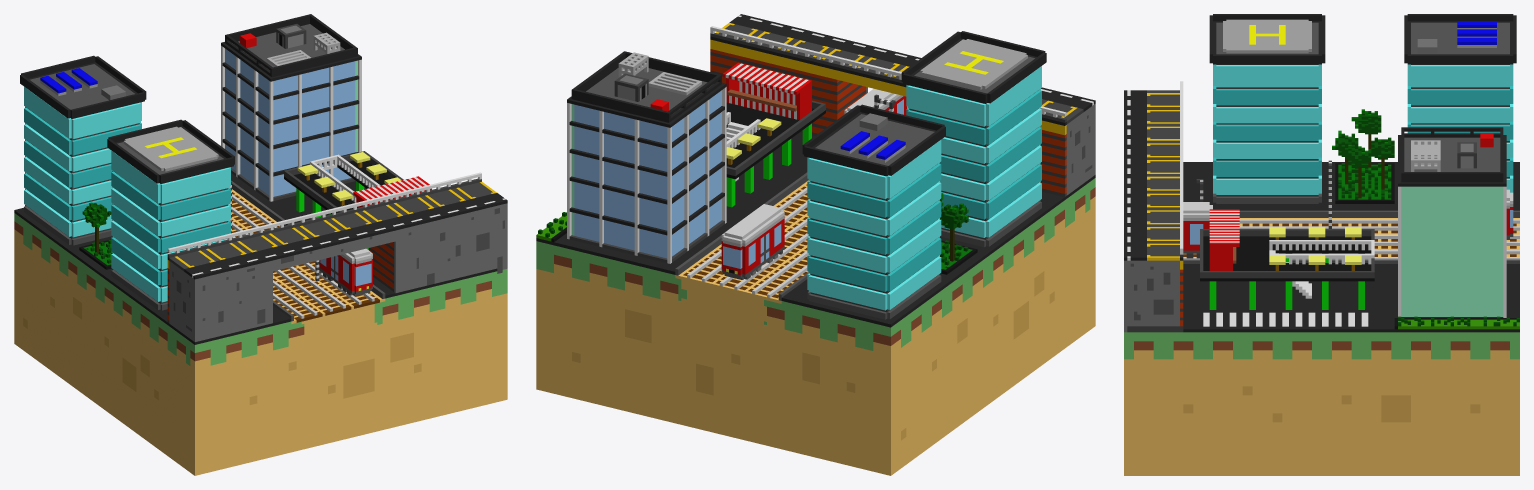
The model's file is landing.vox.obj.
3 renders of one model, left to right at view 1: azimuth 30°, elevation 25°; view 2: azimuth 150°, elevation 25°; view 3: azimuth 270°, elevation 25°, orthographic. The views are drawn at different scales.
Size of the model in its own units: 12 by 9.9 by 12.
Materials: 1 (1 with a texture image).
